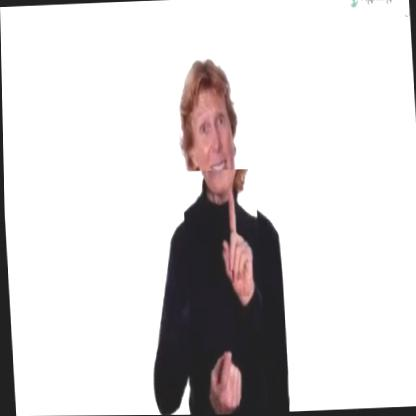NiceToMeetYou: (181, 168, 266, 415)
